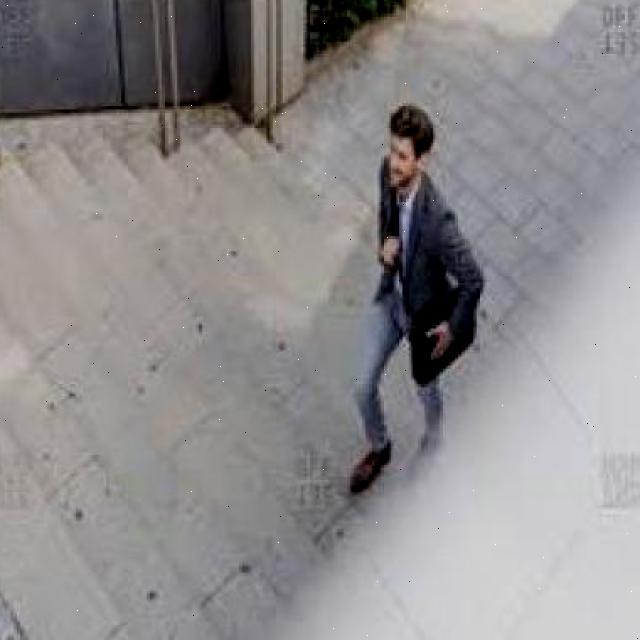stair: (0, 190, 394, 551)
